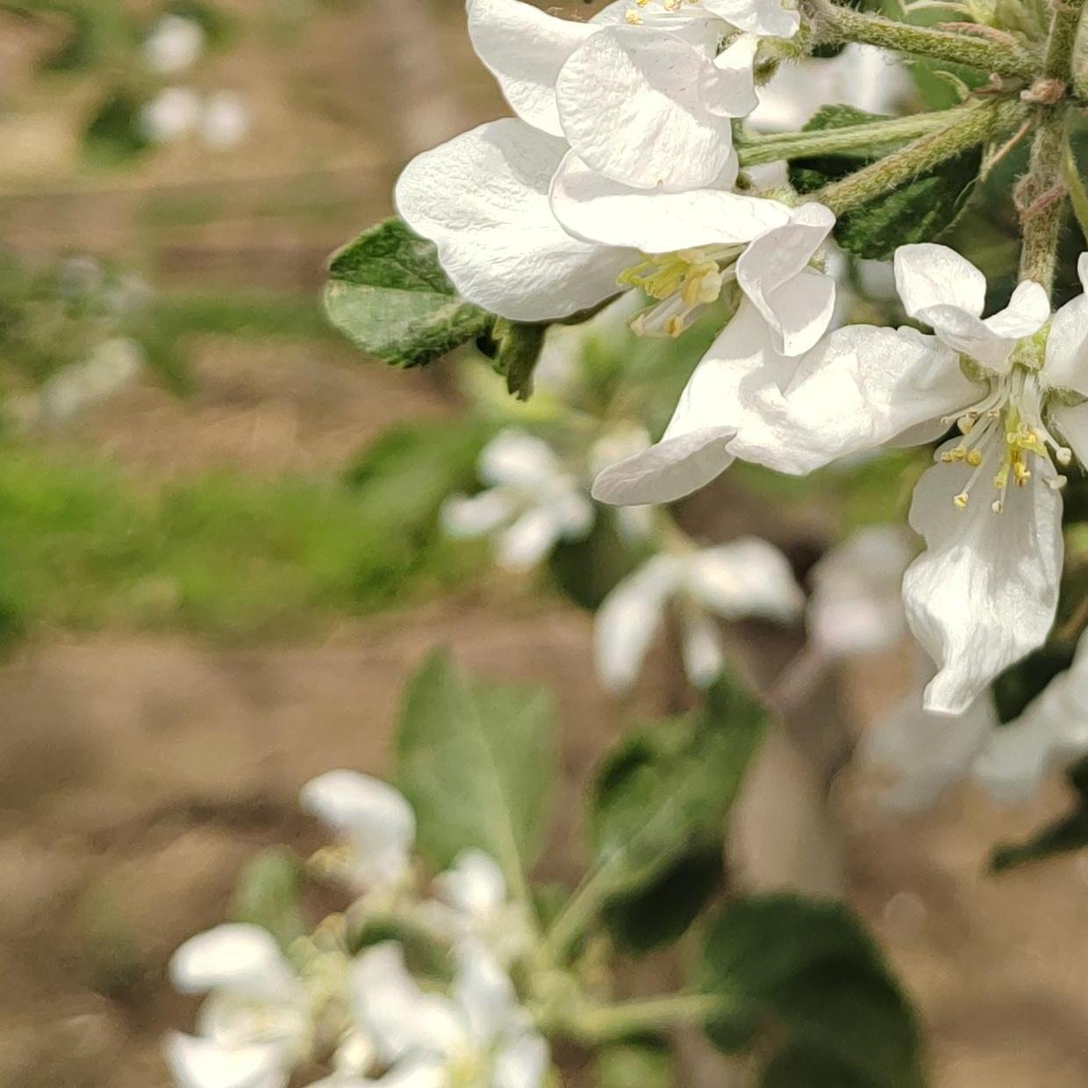apple_flower: (595, 246, 1088, 719), (394, 0, 836, 361), (168, 774, 548, 1088), (861, 634, 1088, 812), (556, 24, 754, 192), (893, 703, 997, 804)
